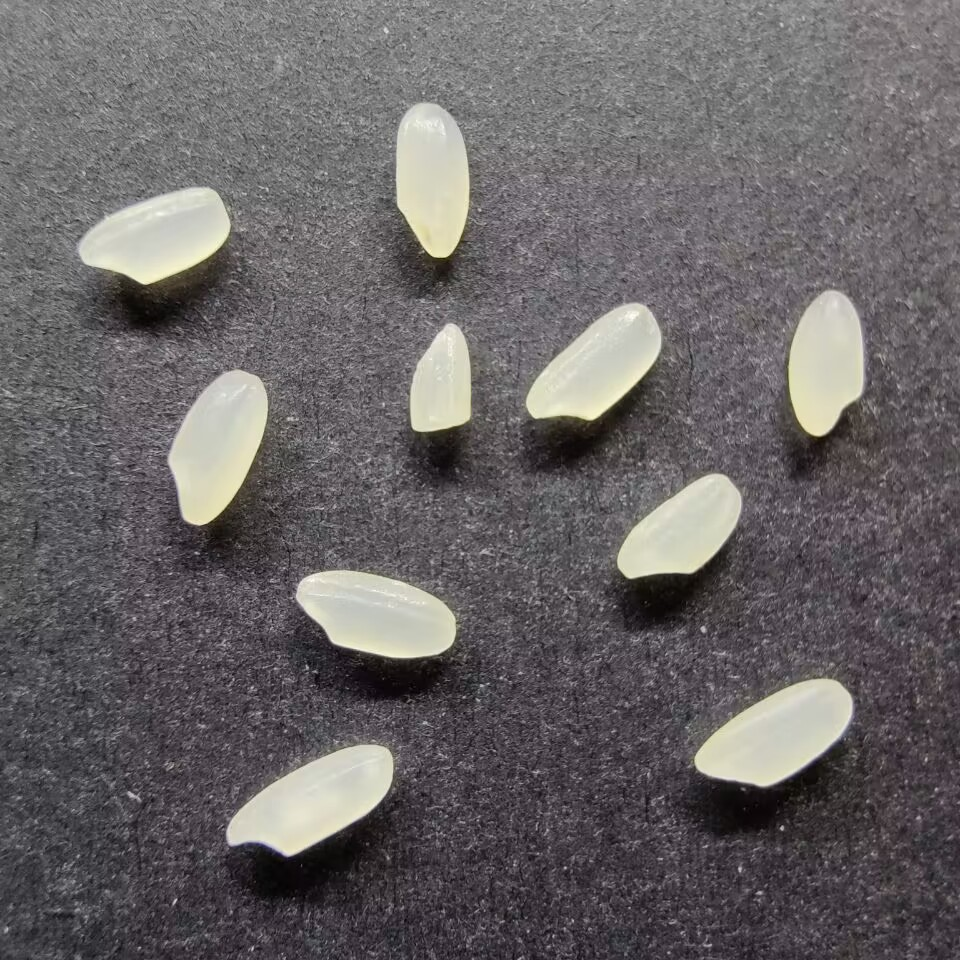broken: (408, 320, 473, 434)
rice: (220, 744, 395, 858), (692, 678, 856, 788), (525, 300, 663, 422), (166, 368, 268, 525), (75, 185, 231, 287), (292, 567, 458, 659), (616, 472, 744, 581), (786, 288, 865, 436), (394, 103, 468, 259)
